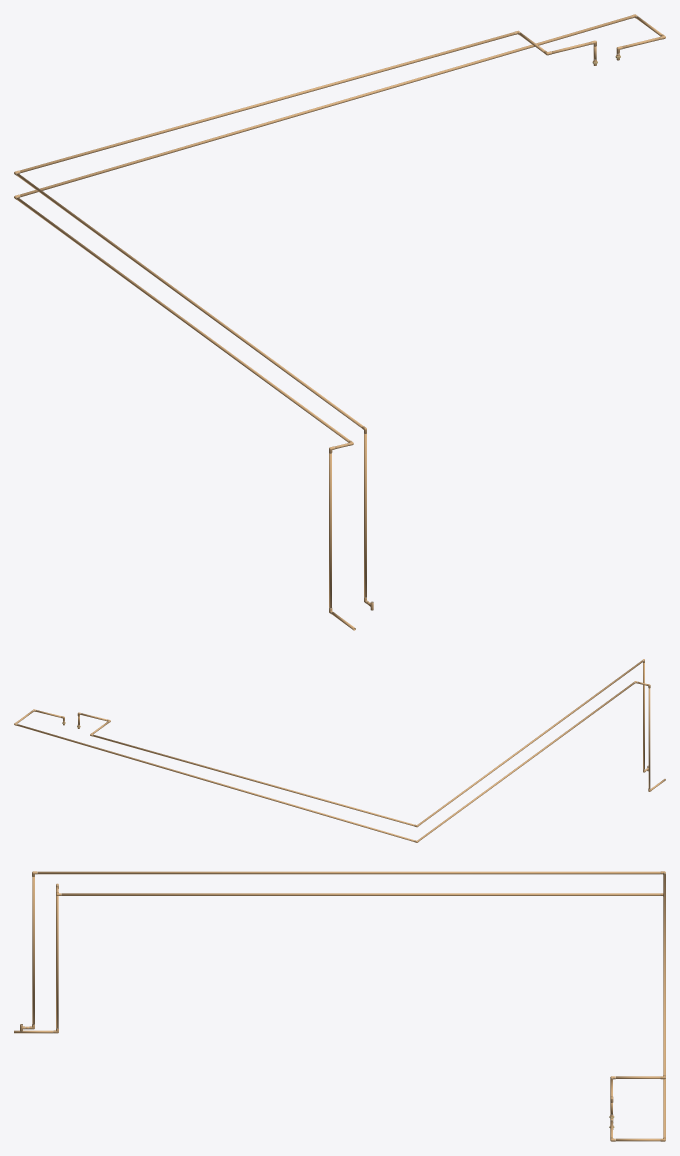
The model's file is slab_pipes_supply__water_heater-garage_hybrid_and_plumbing-copper.glb.
The picture shows the model from 3 angles, top to bottom: view 1: azimuth 30°, elevation 25°; view 2: azimuth 150°, elevation 25°; view 3: azimuth 270°, elevation 25°; orthographic projection. The views are drawn at different scales.
Visible parts, largest first — view 1: pipe_supply_hot_wh_hybrid__copper, pipe_supply_cold_wh_hybrid__copper; view 2: pipe_supply_hot_wh_hybrid__copper, pipe_supply_cold_wh_hybrid__copper; view 3: pipe_supply_cold_wh_hybrid__copper, pipe_supply_hot_wh_hybrid__copper.
Part boxes in pixels (x1,y1,x2,y2): pipe_supply_hot_wh_hybrid__copper: (16,15,661,630); pipe_supply_cold_wh_hybrid__copper: (16,32,596,604); pipe_supply_hot_wh_hybrid__copper: (16,681,665,841); pipe_supply_cold_wh_hybrid__copper: (78,660,647,826); pipe_supply_cold_wh_hybrid__copper: (25,871,665,1114); pipe_supply_hot_wh_hybrid__copper: (14,885,665,1141).
Size of the model in its own units: 5.59 by 1.72 by 5.43.
